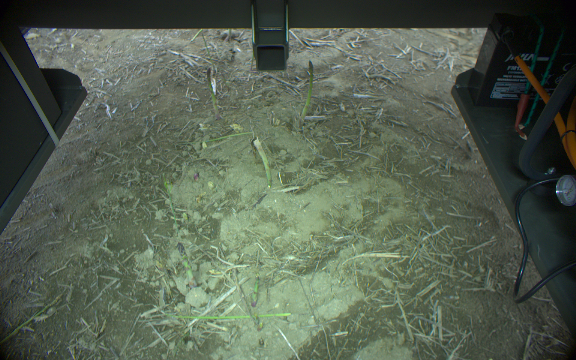aspa: (162, 310, 295, 320), (172, 241, 198, 289), (251, 136, 274, 190), (299, 60, 316, 124), (204, 67, 222, 121), (247, 274, 261, 307)
